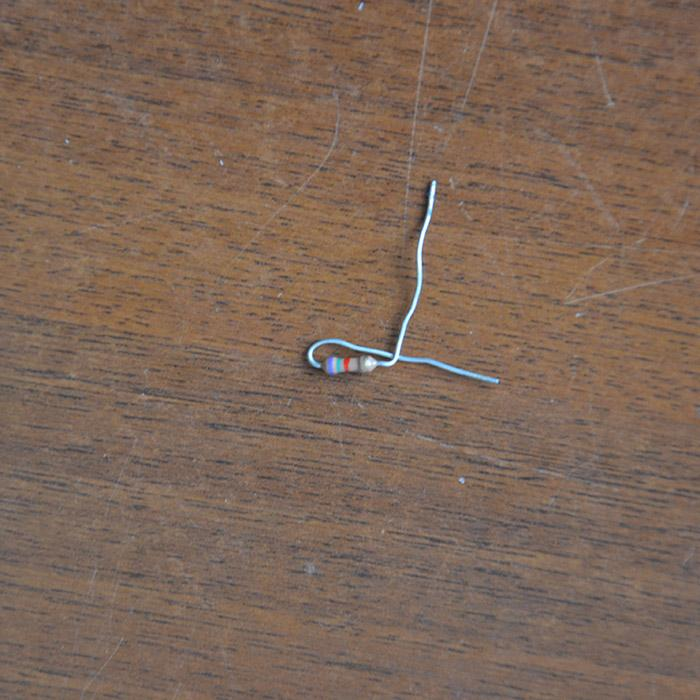resistor: (321, 352, 379, 375)
